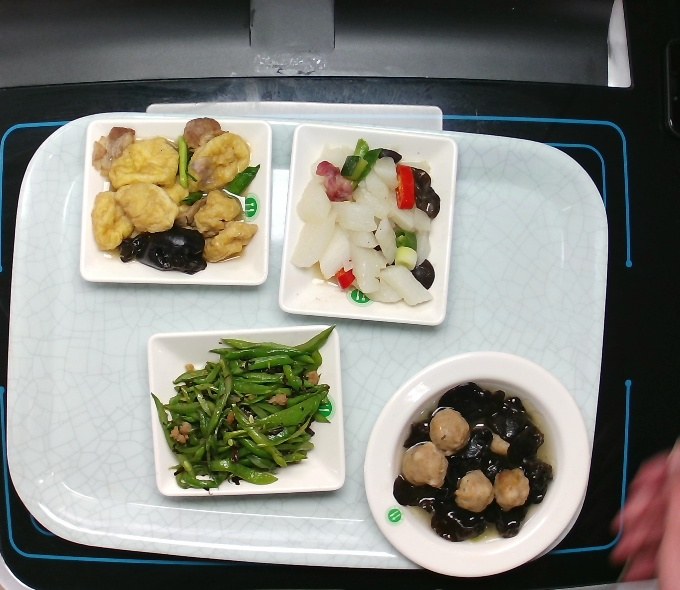wcq-MuErWanZi: (389, 376, 561, 545)
wcq-ShanYao: (288, 136, 444, 309)
wcq-SiJiDouChaoRou: (148, 323, 340, 494)
wcq-YouPaoRouPian: (87, 113, 263, 278)
